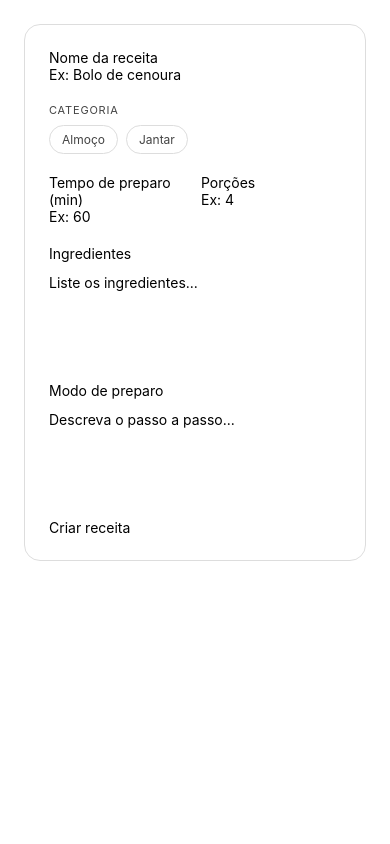
Scenario: RecipeFormScreen › exibe mensagem de erro quando criação falha
The width and height of the screenshot is (390, 844).
Expected: the text "Criar receita" is shown, 49,519 -> 130,536
In the field with placeholder "Ex: Bolo de cenoura": (195,74) 49,66 -> 341,83, type "Bolo de cenoura"
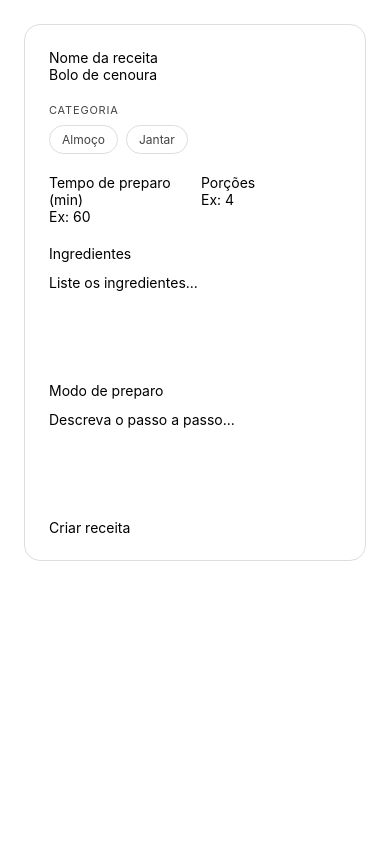
Click the text "Almoço": (84,140) 62,132 -> 105,147
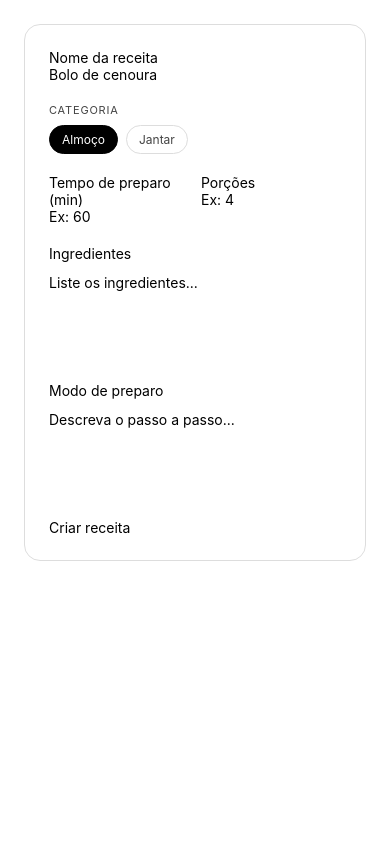
Click the text "Criar receita": (90,528) 49,519 -> 130,536
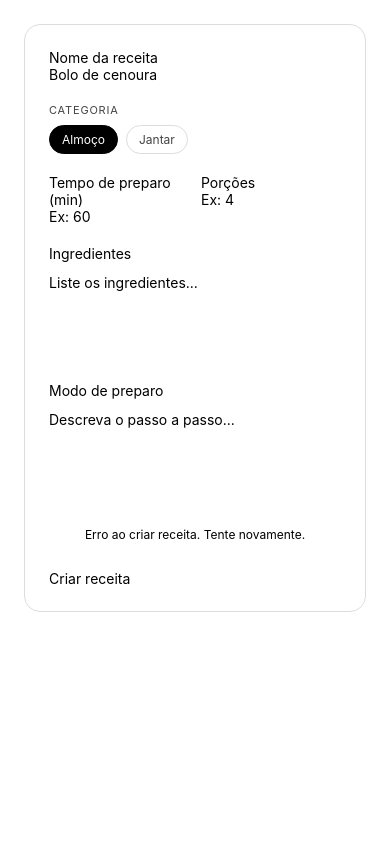
Result: the text "Erro ao criar receita. Tente novamente." is shown at 85,527 -> 305,542
